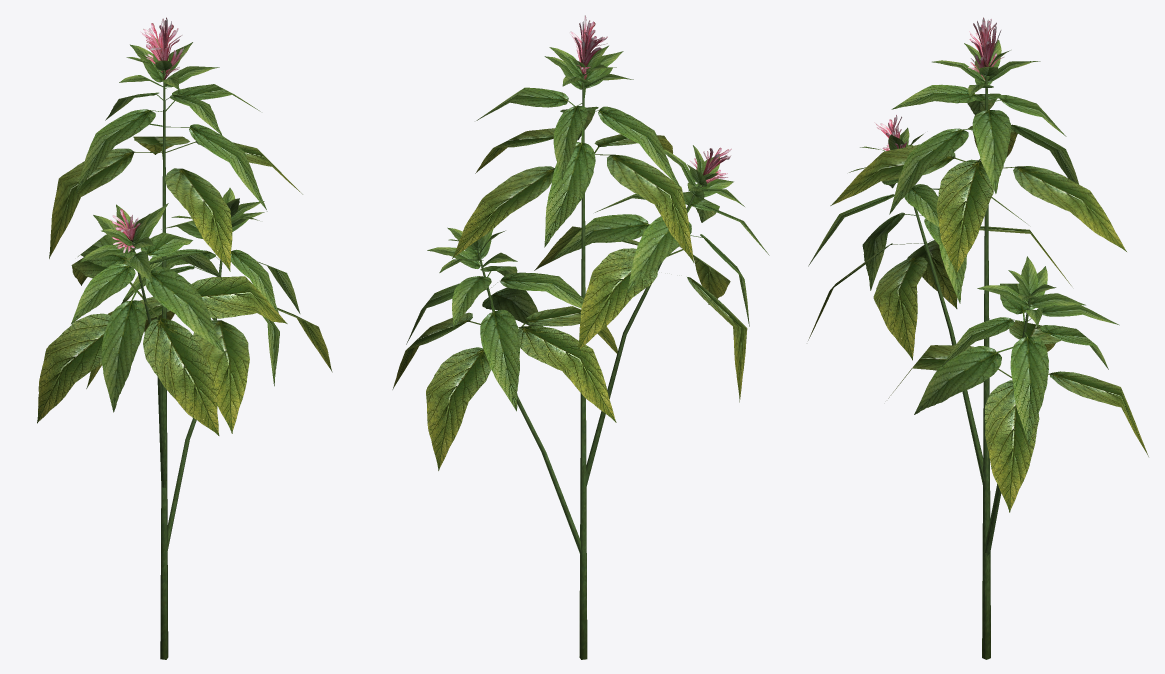
File: MK4_Trop_Plant2.DAE
The picture shows the model from 3 angles, left to right: view 1: azimuth 30°, elevation 25°; view 2: azimuth 150°, elevation 25°; view 3: azimuth 270°, elevation 25°; orthographic projection.
Visible parts, largest first — view 1: MK4_Trop_plant2; view 2: MK4_Trop_plant2; view 3: MK4_Trop_plant2.
Boxes of the visible parts, x1=… form: MK4_Trop_plant2: x1=37, y1=17, x2=332, y2=659; MK4_Trop_plant2: x1=392, y1=15, x2=769, y2=659; MK4_Trop_plant2: x1=808, y1=17, x2=1148, y2=659.
Bounding box in the file's own units: 0.953 × 0.8761 × 1.78.
